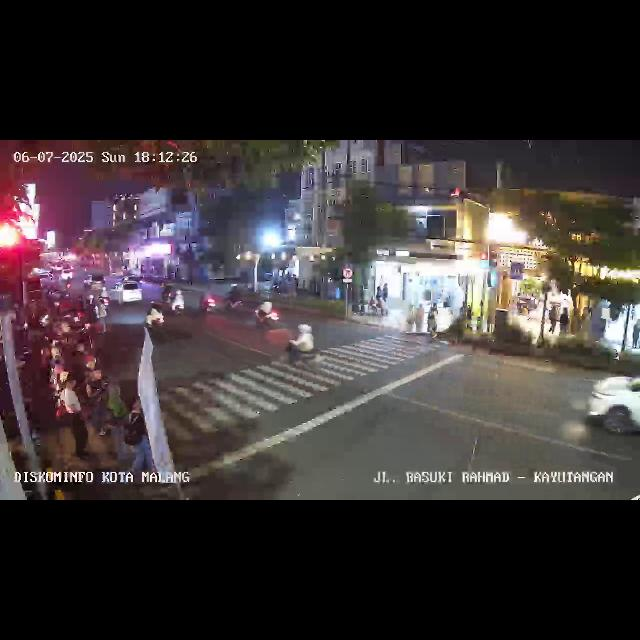car: (580, 372, 640, 446), (105, 280, 144, 306)
motorcycle: (283, 320, 319, 368), (252, 295, 280, 329), (220, 285, 246, 315), (146, 302, 166, 336), (167, 286, 186, 316), (202, 290, 216, 316)
person: (120, 388, 154, 482), (57, 372, 87, 468), (86, 295, 98, 327), (427, 304, 438, 338), (558, 306, 570, 336), (98, 298, 108, 334), (548, 304, 558, 336), (414, 304, 424, 334), (632, 318, 640, 349), (382, 282, 388, 302), (376, 285, 382, 301)
